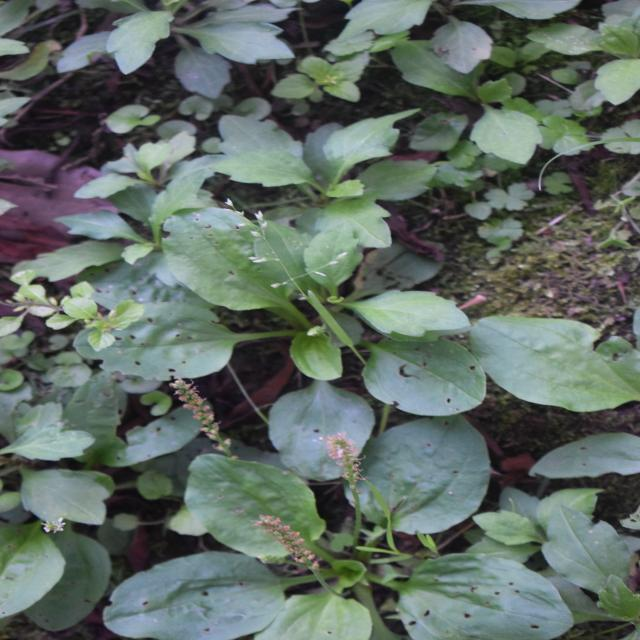plantain: (0, 99, 238, 500), (156, 116, 427, 446)
